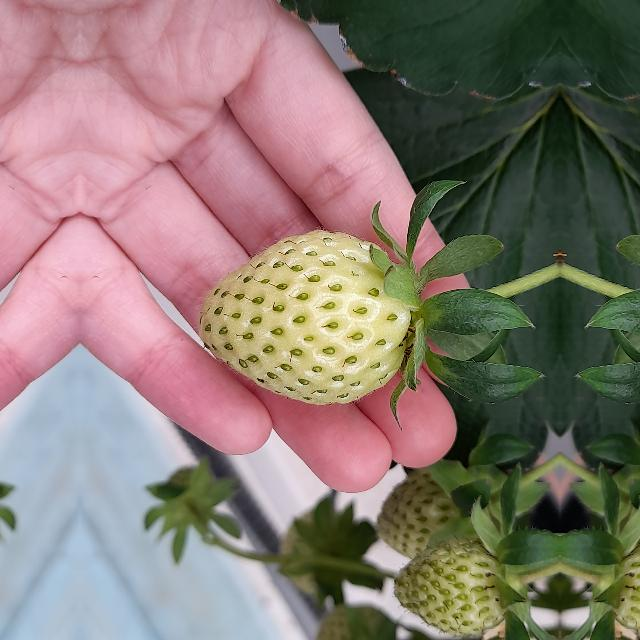Health_25: (198, 230, 410, 404), (392, 543, 518, 635), (602, 543, 640, 635)
